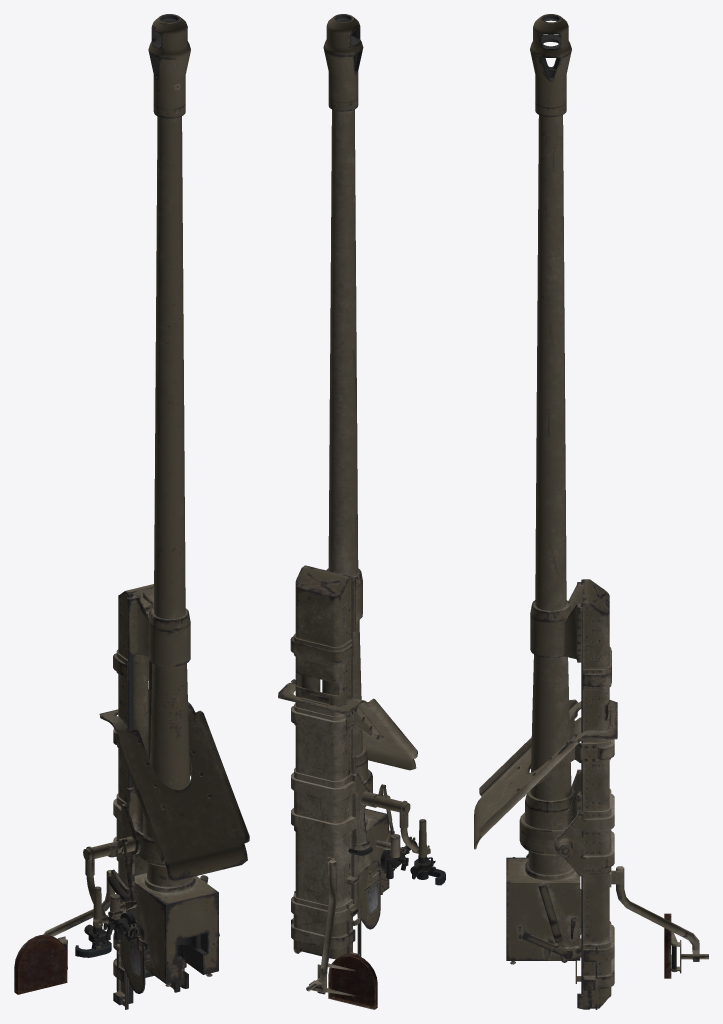
Rendered from Gun_01.glb.
The picture shows the model from 3 angles, left to right: view 1: azimuth 30°, elevation 25°; view 2: azimuth 150°, elevation 25°; view 3: azimuth 270°, elevation 25°; orthographic projection. The views are drawn at different scales.
Parts seen in each view (by area): view 1: set_0_group_0; view 2: set_0_group_0; view 3: set_0_group_0.
Part boxes in pixels (left/top/right/bottom): set_0_group_0: left=14, top=14, right=249, bottom=1009; set_0_group_0: left=278, top=14, right=445, bottom=1009; set_0_group_0: left=474, top=14, right=708, bottom=1009.
Size of the model in its own units: 0.954 by 6.29 by 1.37.
Materials: 1 (1 with a texture image).
